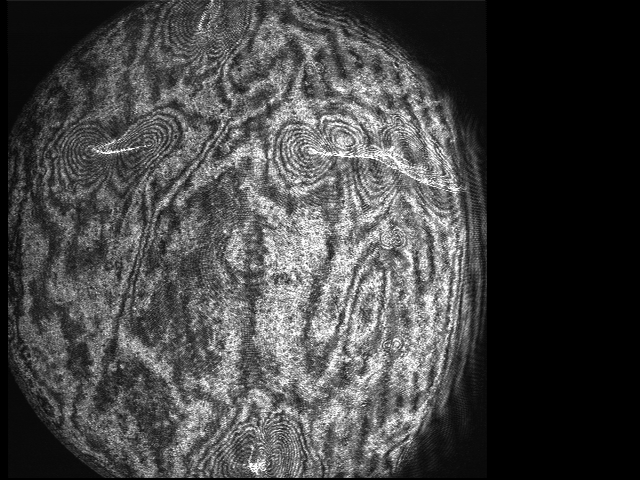plume: (58, 116, 180, 177), (271, 110, 372, 183), (162, 1, 251, 59)
